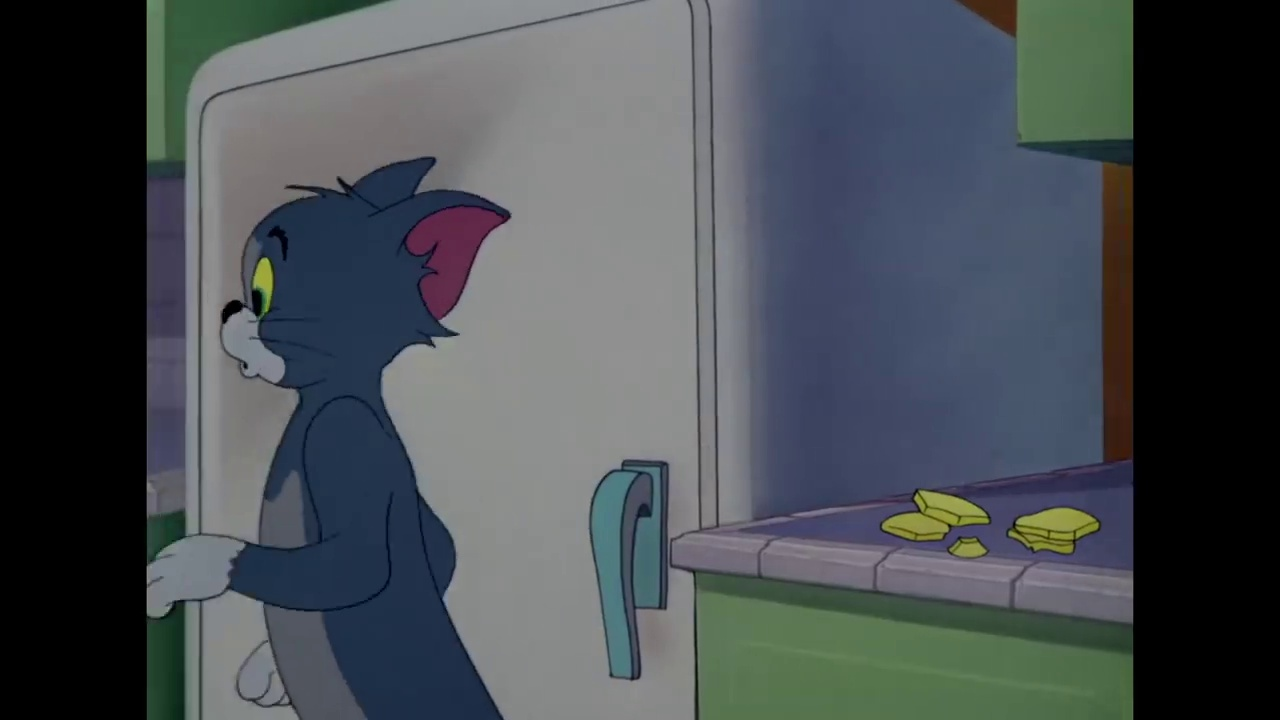tom: (210, 146, 517, 390)
